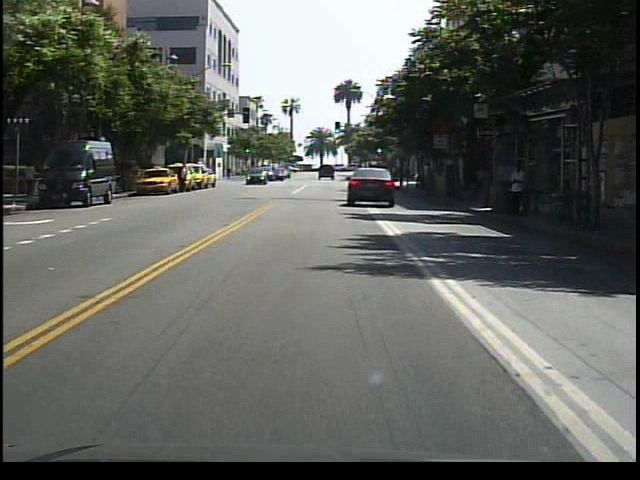person: (506, 155, 536, 222), (176, 161, 192, 198)
